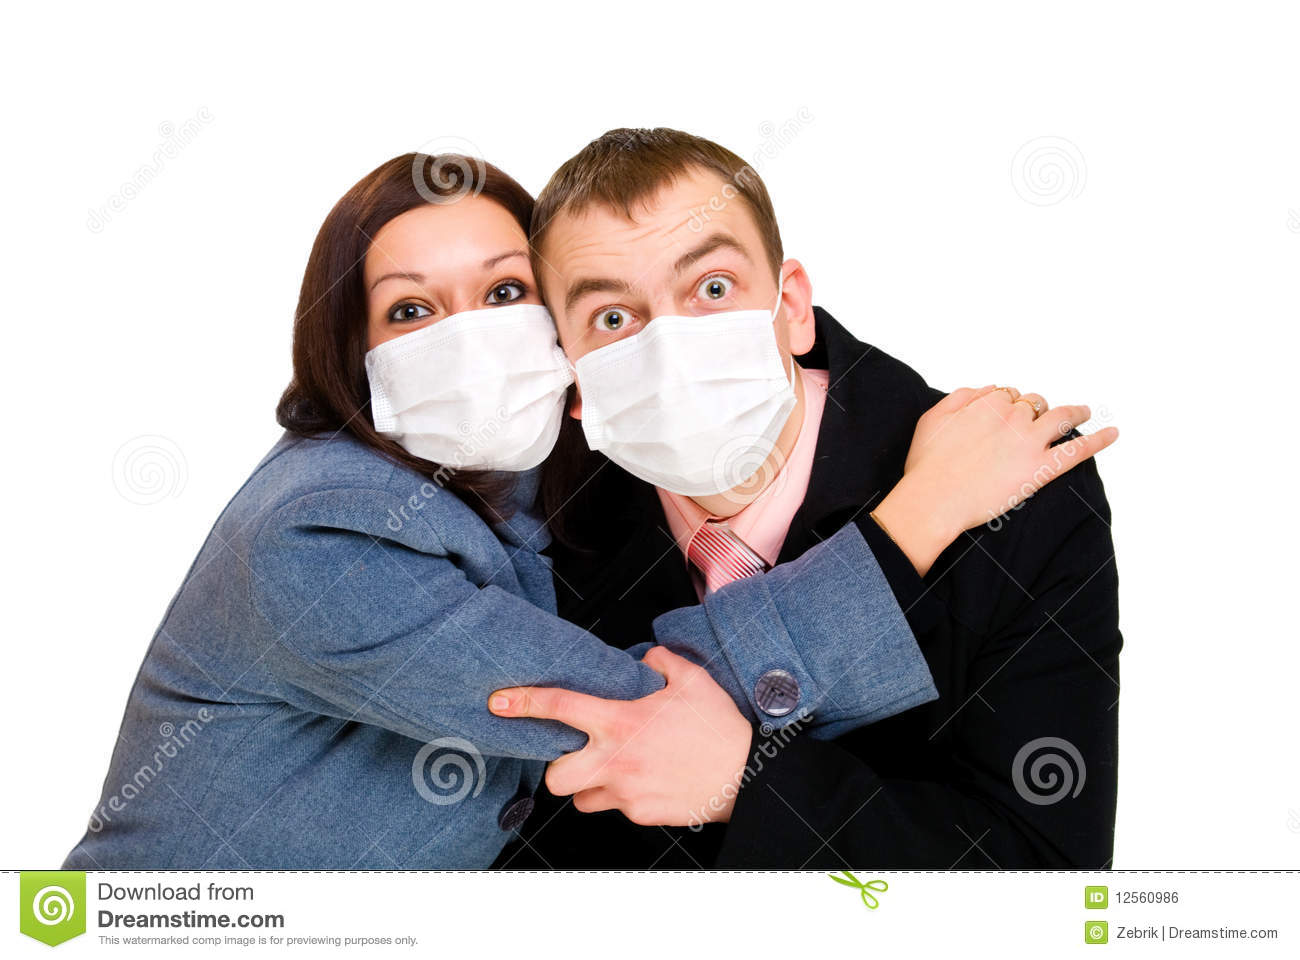mask: (576, 305, 803, 498), (365, 303, 572, 469)
